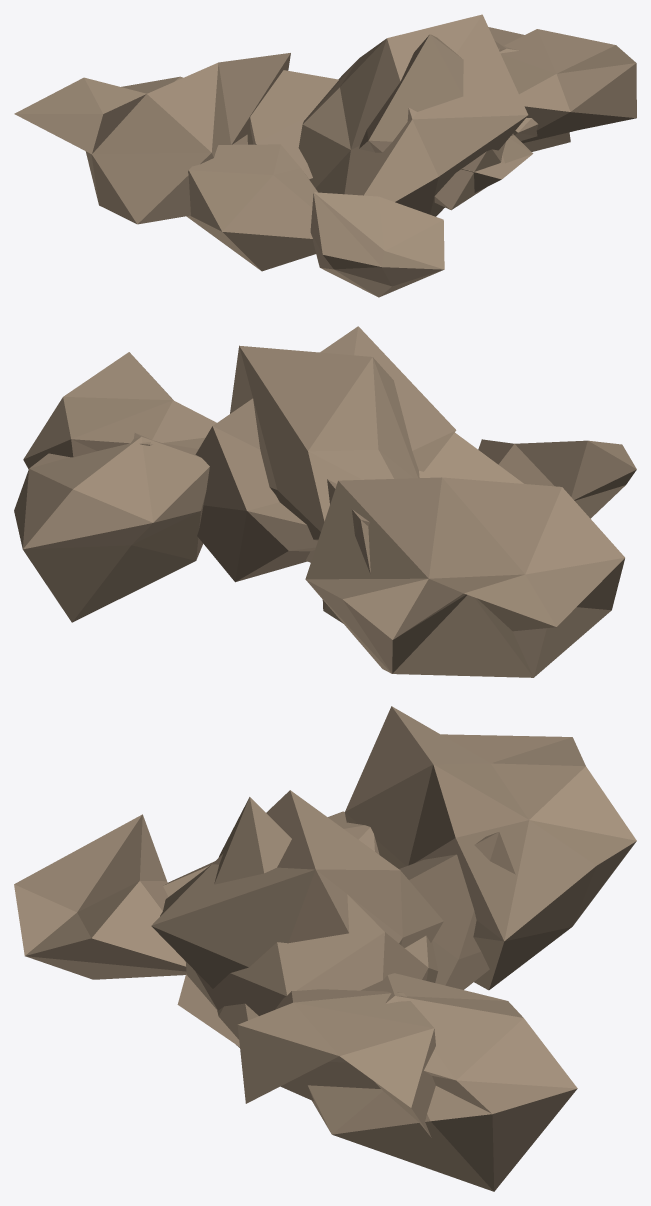
Rendered from Debris2.obj.
The picture shows the model from 3 angles, top to bottom: view 1: azimuth 30°, elevation 25°; view 2: azimuth 150°, elevation 25°; view 3: azimuth 270°, elevation 25°; orthographic projection. The views are drawn at different scales.
Visible parts, largest first — view 1: Null; view 2: Null; view 3: Null.
Boxes of the visible parts, bbox=[...] form: Null: bbox=[14, 14, 636, 297]; Null: bbox=[14, 326, 636, 677]; Null: bbox=[14, 706, 636, 1191].
Bounding box in the file's own units: 587 × 243 × 462.
